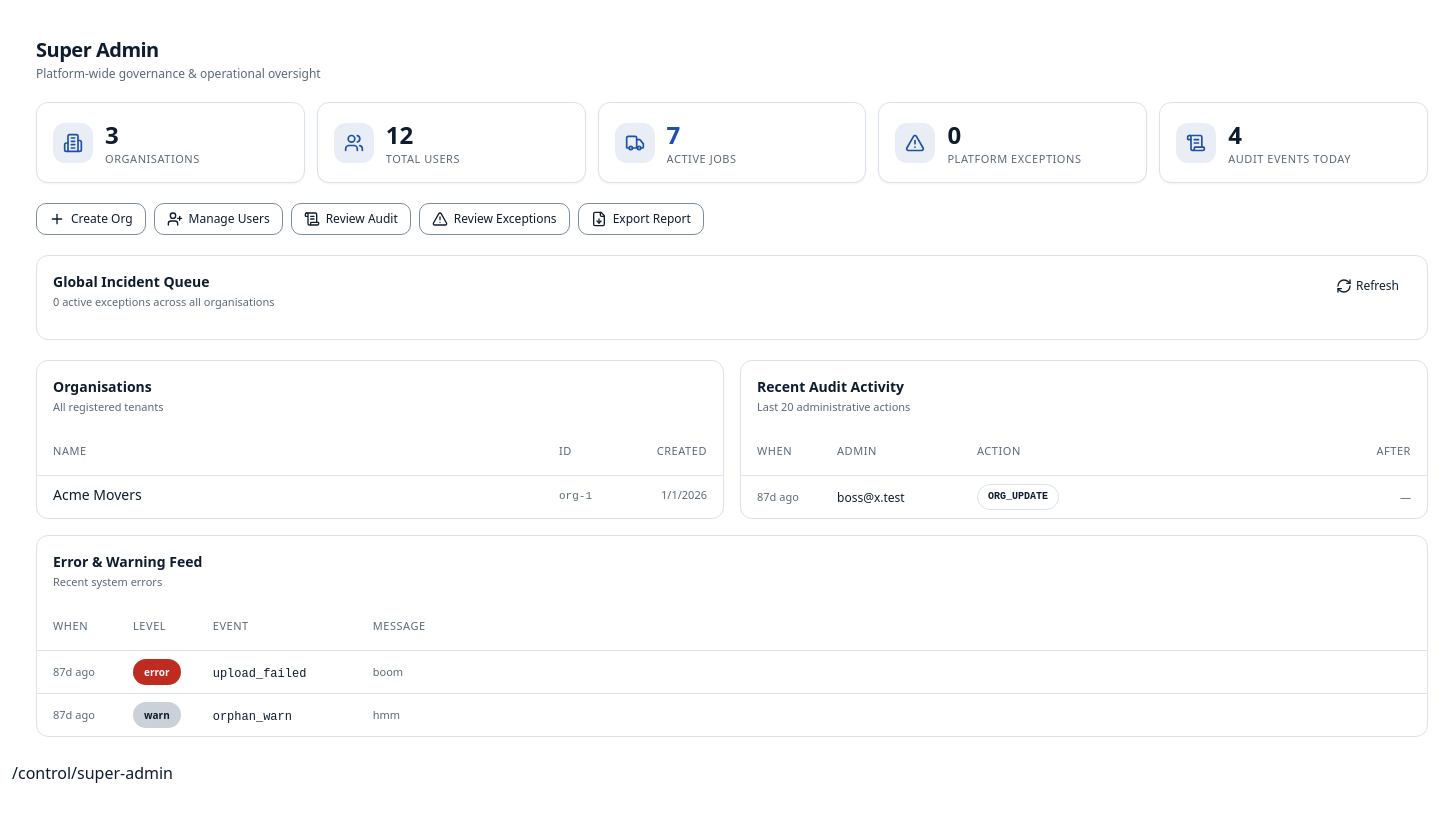
Test case: ControlSuperAdmin linking › error rows open the job when linked, else the error feed
Later steps or results of the test are not shown.
Step 1. Click the text "upload_failed" → (260, 674), box [213,667,306,681]
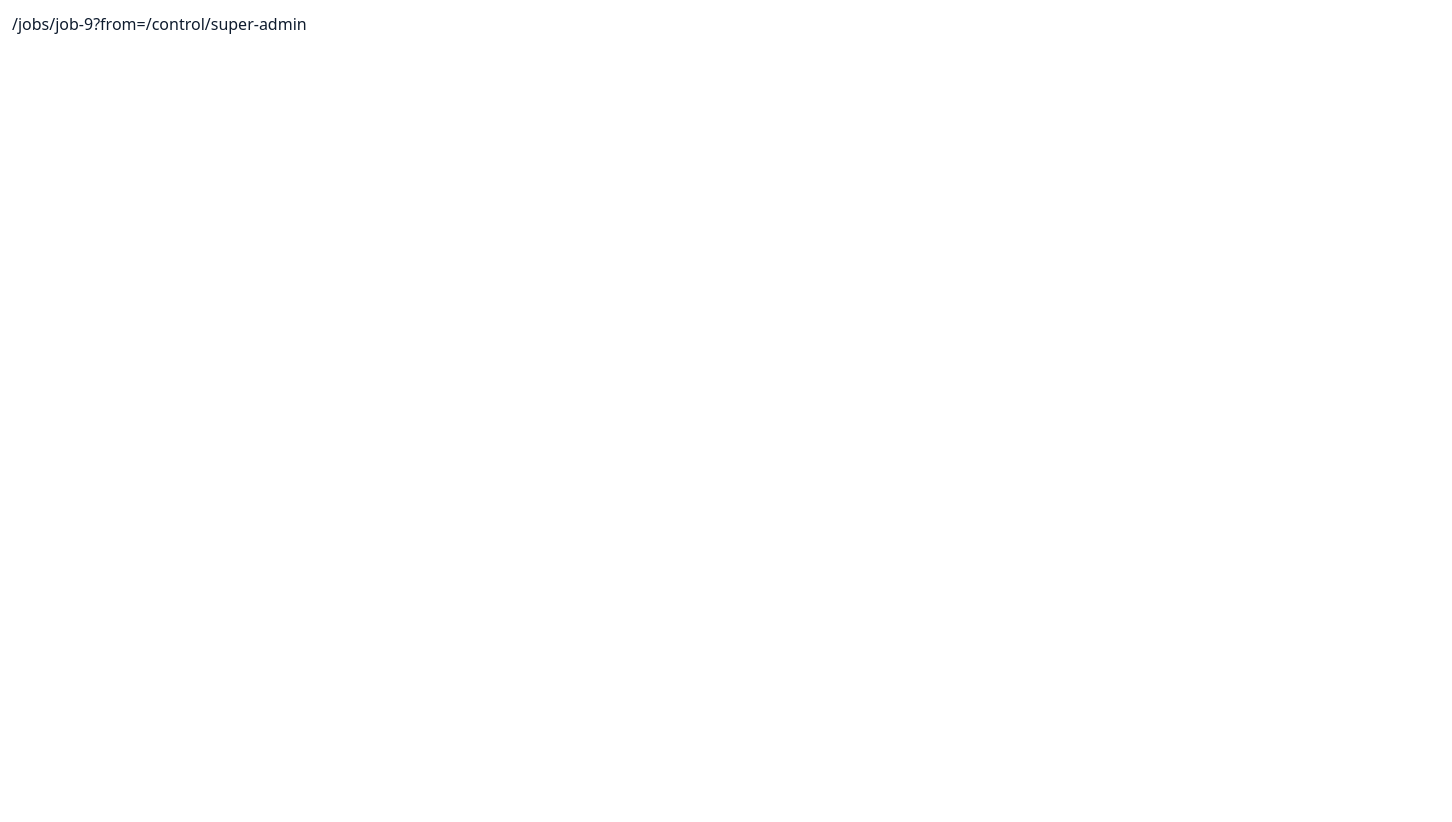
Check: the text with test id "location" reads "/jobs/job-9?from=/control/super-admin", box [12,13,307,35]
